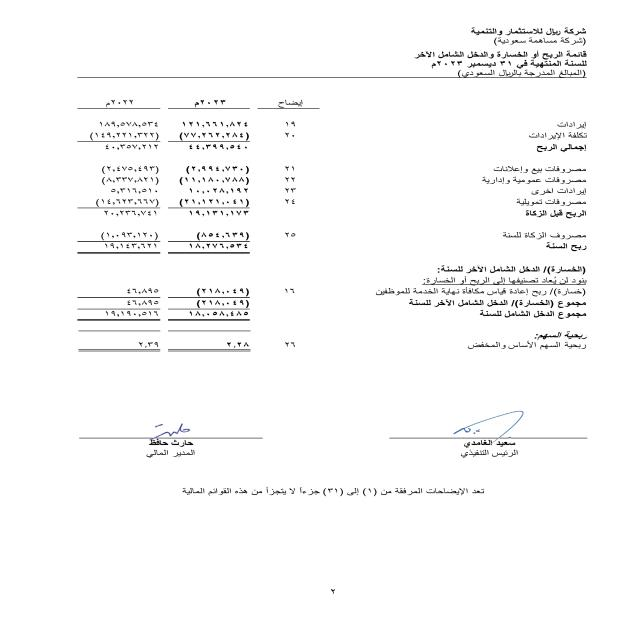financial_sheets: (404, 51, 594, 61)
table: (39, 88, 319, 371)
